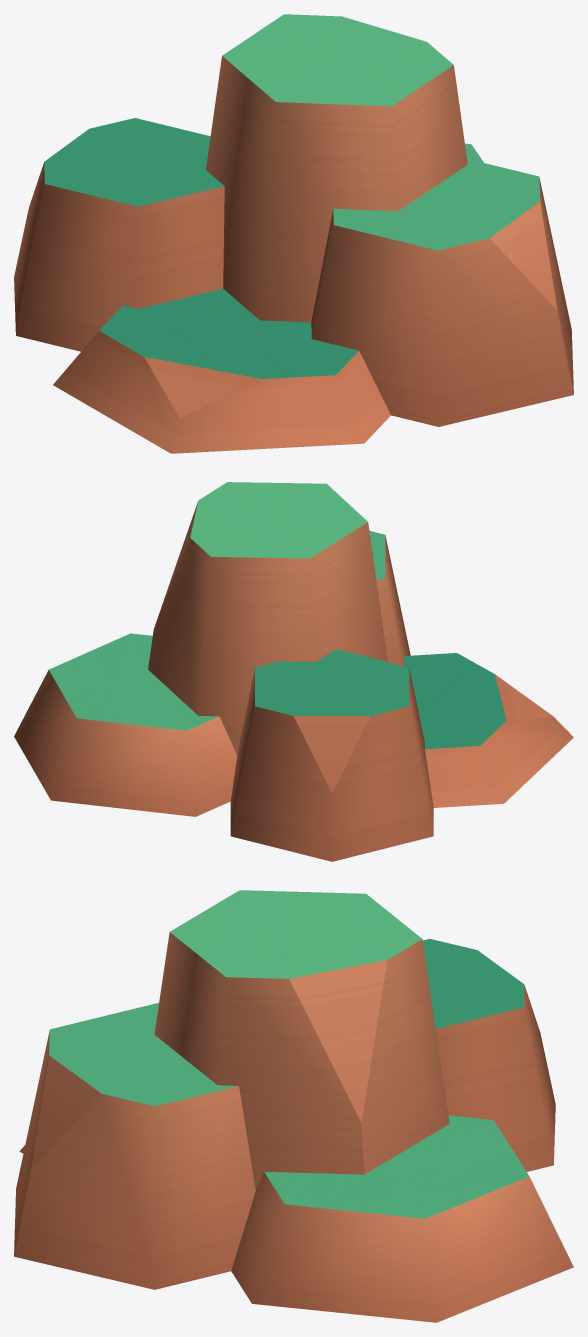
File: mound-b.glb
The picture shows the model from 3 angles, top to bottom: view 1: azimuth 30°, elevation 25°; view 2: azimuth 150°, elevation 25°; view 3: azimuth 270°, elevation 25°; orthographic projection. The views are drawn at different scales.
Parts seen in each view (by area): view 1: detail-dirt-large; view 2: detail-dirt-large; view 3: detail-dirt-large.
Part boxes in pixels (x1,y1,x2,y2): detail-dirt-large: (14, 14, 573, 453); detail-dirt-large: (14, 482, 573, 861); detail-dirt-large: (14, 890, 573, 1322).
Size of the model in its own units: 0.8531 by 0.4145 by 0.7785.
1 material, 1 textured.
